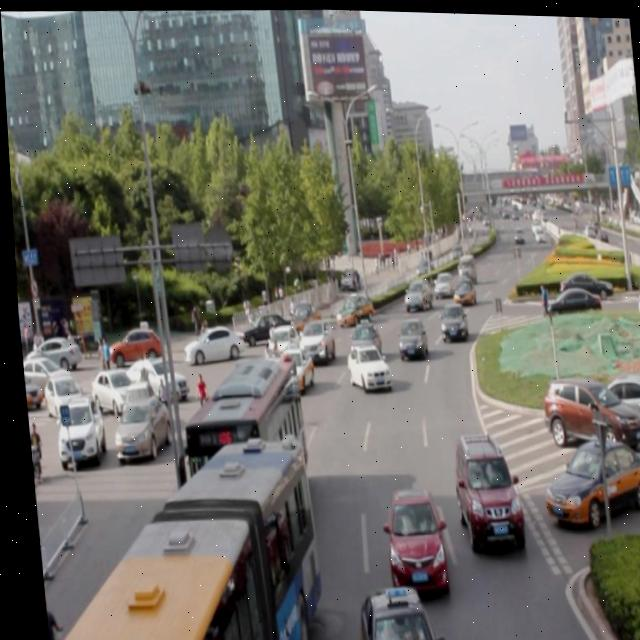car: (533, 430, 640, 524), (445, 429, 518, 547), (377, 484, 442, 591), (348, 579, 432, 640), (177, 321, 242, 365), (341, 339, 386, 390), (264, 347, 310, 394), (226, 358, 265, 413), (237, 309, 292, 346), (293, 315, 333, 365), (262, 322, 297, 365), (342, 317, 378, 358), (330, 292, 371, 325), (392, 316, 424, 358), (433, 300, 464, 340), (397, 273, 428, 310), (447, 273, 472, 303), (428, 267, 450, 294)
van: (24, 428, 318, 640), (176, 357, 307, 517)
